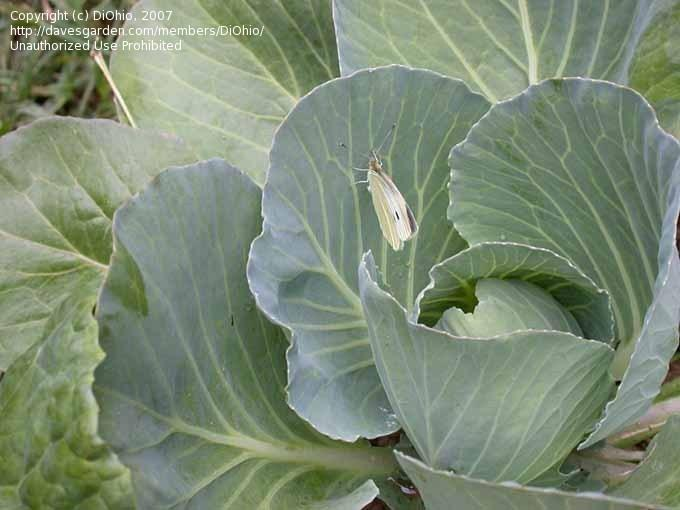cabbage: (358, 239, 617, 484)
